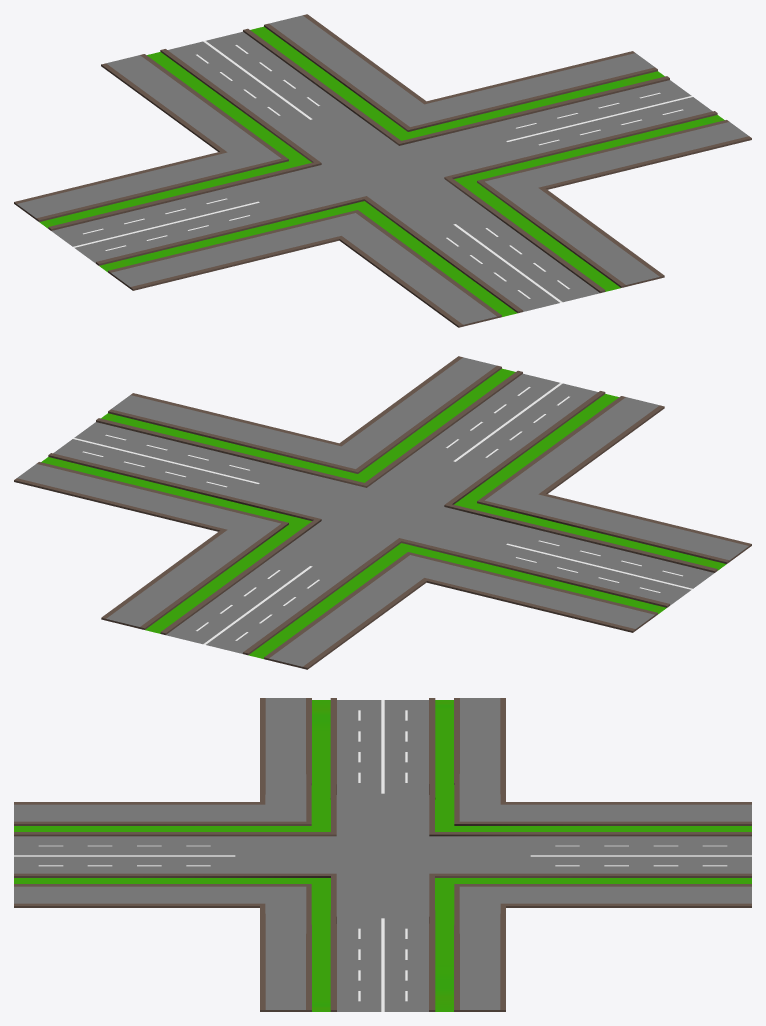
File: SM_Road_P3.fbx
The picture shows the model from 3 angles, top to bottom: view 1: azimuth 30°, elevation 25°; view 2: azimuth 150°, elevation 25°; view 3: azimuth 270°, elevation 25°; orthographic projection. The views are drawn at different scales.
Parts seen in each view (by area): view 1: SM_Road_P3; view 2: SM_Road_P3; view 3: SM_Road_P3.
Part boxes in pixels (x1,y1,x2,y2): SM_Road_P3: (14, 14, 751, 327); SM_Road_P3: (14, 356, 751, 669); SM_Road_P3: (14, 698, 751, 1011).
Bounding box in the file's own units: 1080001 × 2992 × 1080001.
